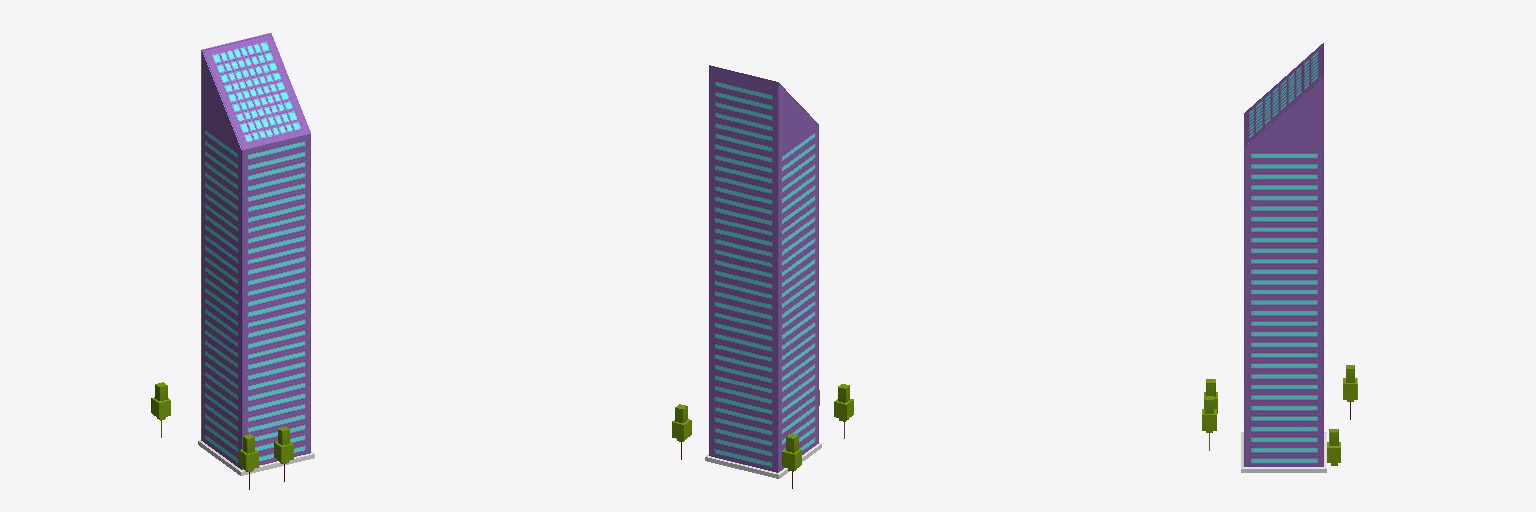
3 renders of one model, left to right at view 1: azimuth 30°, elevation 25°; view 2: azimuth 150°, elevation 25°; view 3: azimuth 270°, elevation 25°, orthographic.
Parts seen in each view (by area): view 1: business_tower_3lvl_Mesh.4806, Tree_2_3_61.063_Mesh.329, Tree_2_3_61.041_Mesh.302, Tree_2_3_61.042_Mesh.303; view 2: business_tower_3lvl_Mesh.4806, Tree_2_3_61.064_Mesh.330, Tree_2_3_61.063_Mesh.329, Tree_2_3_61.041_Mesh.302; view 3: business_tower_3lvl_Mesh.4806.
Part boxes in pixels (bbox=[...]): business_tower_3lvl_Mesh.4806: bbox=[198, 33, 314, 475]; Tree_2_3_61.063_Mesh.329: bbox=[151, 382, 170, 437]; Tree_2_3_61.041_Mesh.302: bbox=[239, 434, 258, 489]; Tree_2_3_61.042_Mesh.303: bbox=[274, 426, 293, 481]; business_tower_3lvl_Mesh.4806: bbox=[705, 65, 821, 478]; Tree_2_3_61.064_Mesh.330: bbox=[672, 404, 691, 459]; Tree_2_3_61.063_Mesh.329: bbox=[782, 434, 801, 488]; Tree_2_3_61.041_Mesh.302: bbox=[834, 384, 853, 438]; business_tower_3lvl_Mesh.4806: bbox=[1241, 43, 1326, 472].
Size of the model in its own units: 1.64 by 4.71 by 1.67.
Materials: 2 (2 with a texture image).